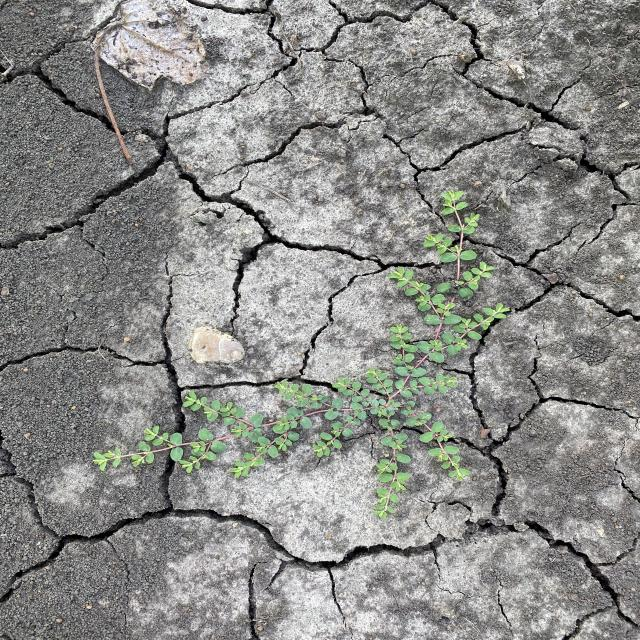SpottedSpurge: (90, 186, 512, 523)
